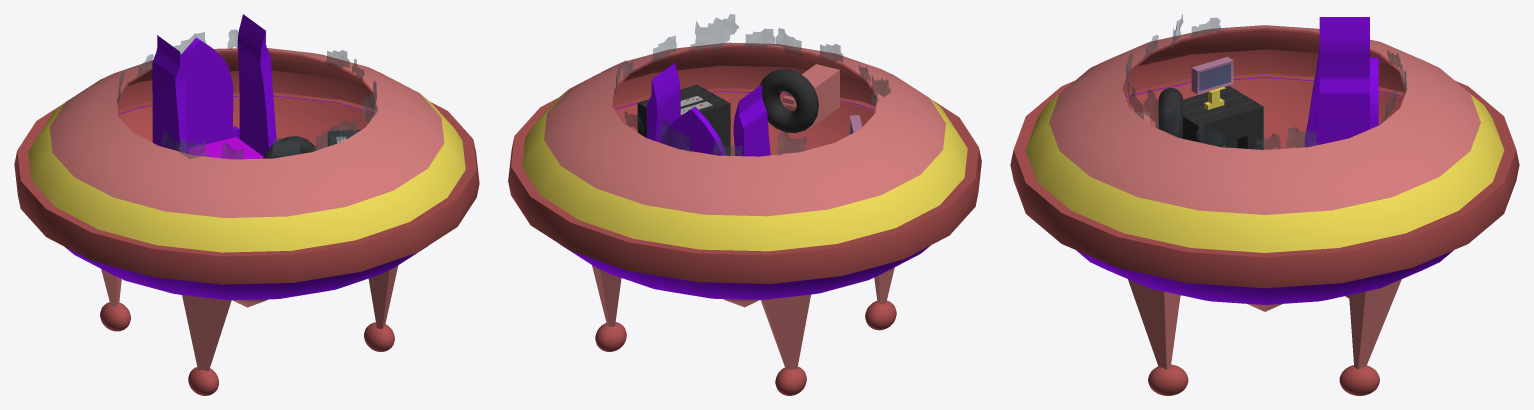
File: spaceship.fbx
The picture shows the model from 3 angles, left to right: view 1: azimuth 30°, elevation 25°; view 2: azimuth 150°, elevation 25°; view 3: azimuth 270°, elevation 25°; orthographic projection. The views are drawn at different scales.
Visible parts, largest first — view 1: spaceship, chair, spaceship1, steeringwheel, ball2, ball4, ball1, glass1, glass9, glass4; view 2: spaceship, spaceship1, chair, steeringwheel, control, steeringwheelholder, glass8, ball3, ball1, ball2, glass13, glass11 (+2 smaller); view 3: spaceship, spaceship1, chair, computertable, computer, steeringwheel, ball3, ball4, glass8, glass10, glass3.
Part boxes in pixels (box(x1,y1,x2,y2)): spaceship: box(14, 48, 479, 370); chair: box(152, 14, 276, 159); spaceship1: box(117, 50, 376, 150); steeringwheel: box(263, 136, 316, 158); ball2: box(100, 302, 130, 331); ball4: box(364, 322, 394, 351); ball1: box(188, 367, 218, 395); glass1: box(272, 138, 301, 156); glass9: box(178, 139, 208, 158); glass4: box(313, 125, 340, 150); spaceship: box(508, 42, 981, 370); spaceship1: box(612, 45, 877, 155); chair: box(646, 63, 770, 156); steeringwheel: box(759, 69, 818, 133); control: box(637, 84, 730, 155); steeringwheelholder: box(782, 64, 839, 128); glass8: box(690, 14, 738, 52); ball3: box(595, 322, 626, 351); ball1: box(865, 300, 896, 330); ball2: box(775, 366, 806, 395); glass13: box(658, 119, 691, 152); glass11: box(777, 132, 808, 155); spaceship: box(1010, 25, 1519, 369); spaceship1: box(1122, 28, 1407, 149); chair: box(1304, 17, 1378, 147); computertable: box(1183, 86, 1263, 149); computer: box(1191, 57, 1233, 94); steeringwheel: box(1158, 88, 1182, 138); ball3: box(1339, 365, 1379, 395); ball4: box(1148, 364, 1188, 395); glass8: box(1144, 89, 1178, 138); glass10: box(1287, 127, 1318, 147); glass3: box(1196, 122, 1227, 147).
Size of the model in its own units: 11.67 by 7.67 by 11.51.
